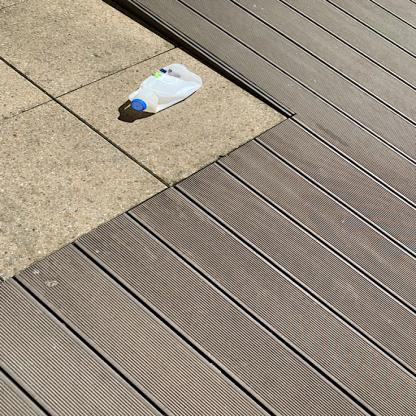trash: (121, 63, 205, 115)
